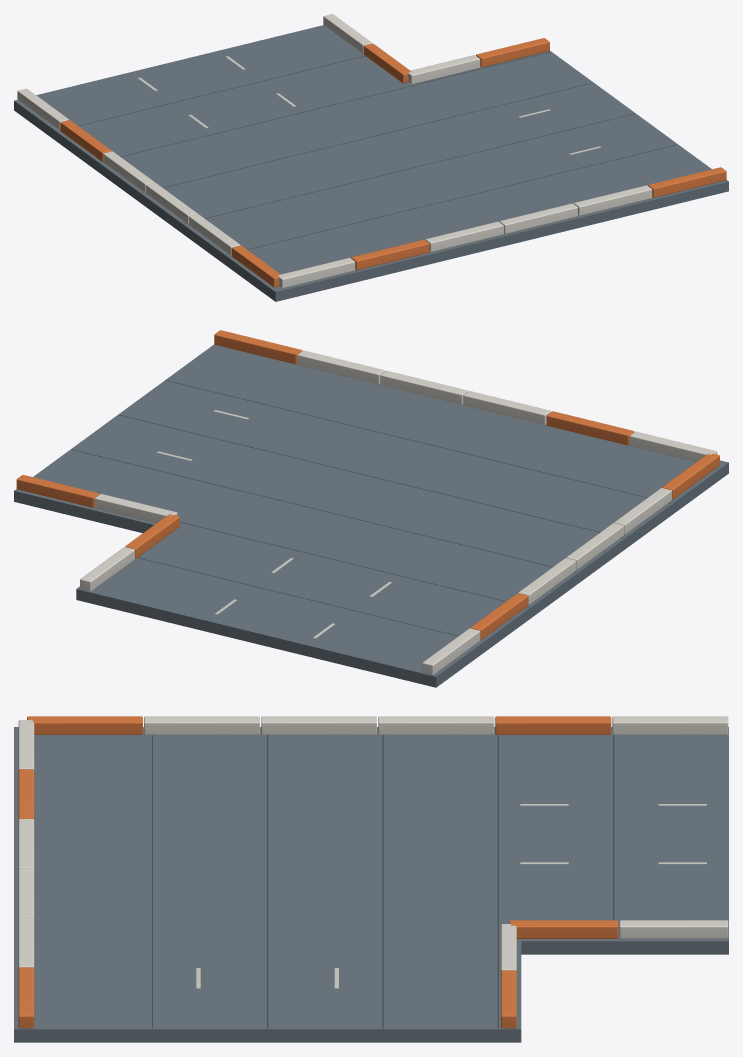
Rendered from OrangeRoadLeft.fbx.
The picture shows the model from 3 angles, top to bottom: view 1: azimuth 30°, elevation 25°; view 2: azimuth 150°, elevation 25°; view 3: azimuth 270°, elevation 25°; orthographic projection. The views are drawn at different scales.
Visible parts, largest first — view 1: OrangeRoadLeft_OE_RoadDeck, OrangeRoadLeft_OE_RoadIvory, OrangeRoadLeft_OE_RoadOrange, OrangeRoadLeft_OE_RoadJoint; view 2: OrangeRoadLeft_OE_RoadDeck, OrangeRoadLeft_OE_RoadIvory, OrangeRoadLeft_OE_RoadOrange, OrangeRoadLeft_OE_RoadJoint; view 3: OrangeRoadLeft_OE_RoadDeck, OrangeRoadLeft_OE_RoadIvory, OrangeRoadLeft_OE_RoadOrange, OrangeRoadLeft_OE_RoadJoint, OrangeRoadLeft_OE_RoadPaint.
Boxes of the visible parts, x1,y1,x2,y2 form: OrangeRoadLeft_OE_RoadDeck: (14,25,728,301); OrangeRoadLeft_OE_RoadIvory: (17,14,652,288); OrangeRoadLeft_OE_RoadOrange: (60,38,726,287); OrangeRoadLeft_OE_RoadJoint: (78,52,676,254); OrangeRoadLeft_OE_RoadDeck: (14,344,728,687); OrangeRoadLeft_OE_RoadIvory: (80,350,717,675); OrangeRoadLeft_OE_RoadOrange: (16,330,719,640); OrangeRoadLeft_OE_RoadJoint: (72,380,670,636); OrangeRoadLeft_OE_RoadDeck: (14,727,728,1042); OrangeRoadLeft_OE_RoadIvory: (18,716,728,970); OrangeRoadLeft_OE_RoadOrange: (18,716,618,1028); OrangeRoadLeft_OE_RoadJoint: (152,735,614,1028); OrangeRoadLeft_OE_RoadPaint: (196,804,706,988).
Size of the model in its own units: 1550 by 63 by 1550.
